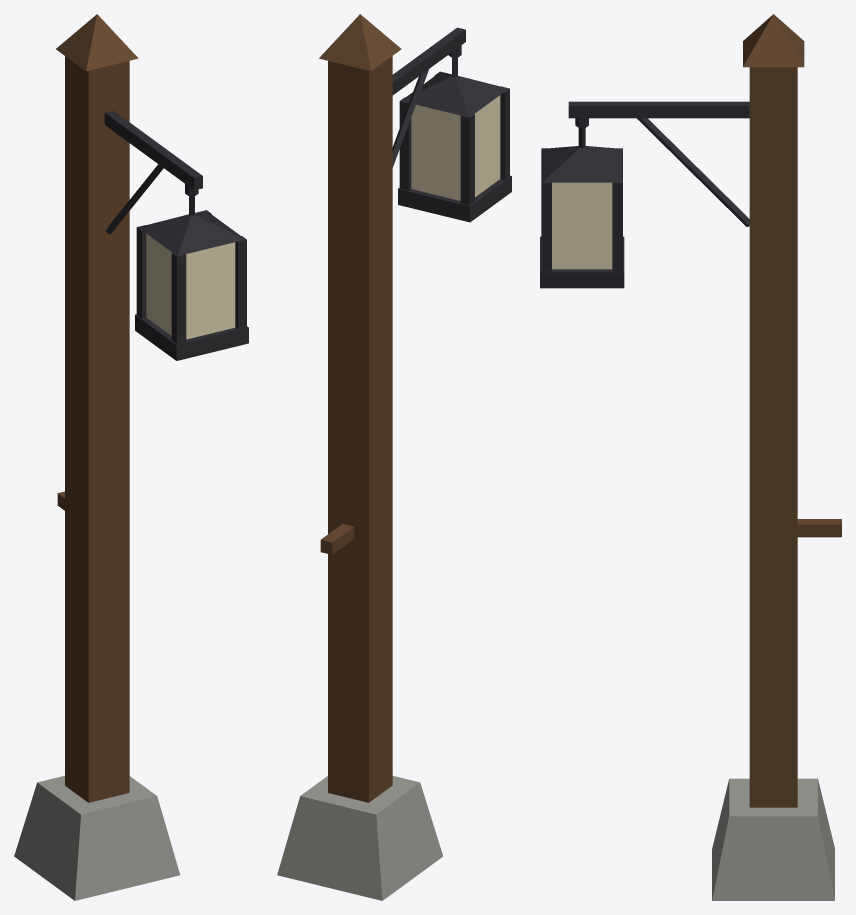
File: LampPost.fbx
3 views of the same model, side by side, from view 1: azimuth 30°, elevation 25°; view 2: azimuth 150°, elevation 25°; view 3: azimuth 270°, elevation 25° (orthographic).
Parts seen in each view (by area): view 1: LampPost; view 2: LampPost; view 3: LampPost.
Boxes of the visible parts, x1=… form: LampPost: x1=14, y1=14, x2=248, y2=900; LampPost: x1=277, y1=14, x2=511, y2=900; LampPost: x1=540, y1=14, x2=841, y2=900.
Bounding box in the file's own units: 0.36 × 2.78 × 0.8835.
